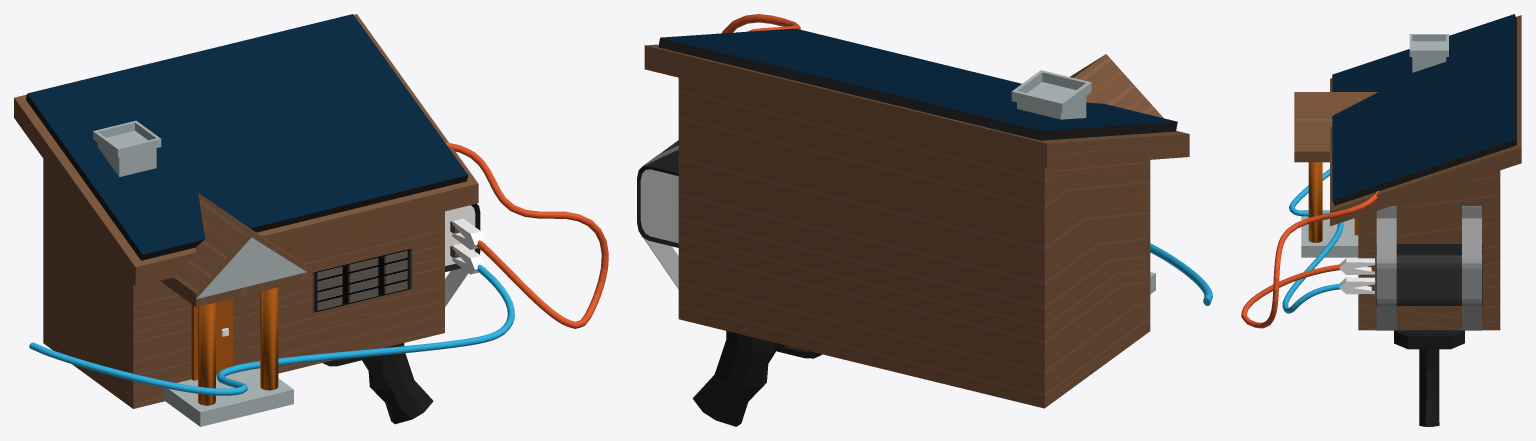
Rendered from solarBody.fbx.
The picture shows the model from 3 angles, left to right: view 1: azimuth 30°, elevation 25°; view 2: azimuth 150°, elevation 25°; view 3: azimuth 270°, elevation 25°; orthographic projection. The views are drawn at different scales.
Visible parts, largest first — view 1: Cube, Cube.002, Cube.001; view 2: Cube, Cube.001, Cube.002; view 3: Cube, Cube.001, Cube.002.
Part boxes in pixels (x1,y1,x2,y2): Cube: (14,14,485,426); Cube.002: (29,264,514,395); Cube.001: (445,142,608,328); Cube: (637,28,1189,426); Cube.001: (722,14,800,33); Cube.002: (1150,243,1212,305); Cube: (1294,14,1521,426); Cube.001: (1241,191,1378,328); Cube.002: (1282,169,1343,313).
Size of the model in its own units: 642 by 449 by 395.
